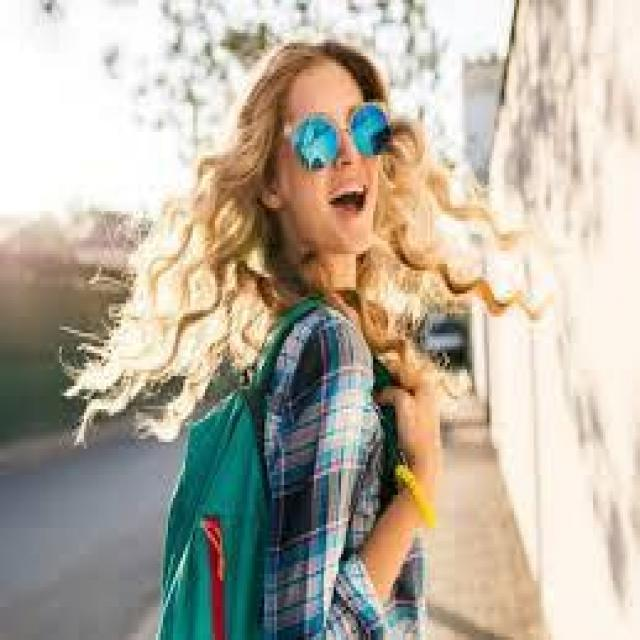person: (148, 29, 480, 636)
